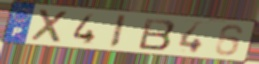4: (177, 20, 206, 55), (71, 13, 98, 46)
6: (213, 24, 244, 57)
B: (137, 17, 178, 52)
I: (107, 14, 128, 50)
X: (30, 7, 72, 45)
